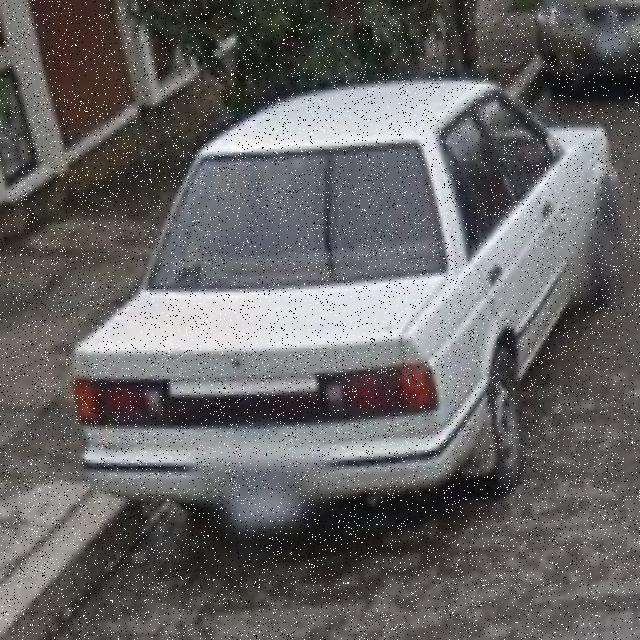cars: (72, 75, 627, 540)
